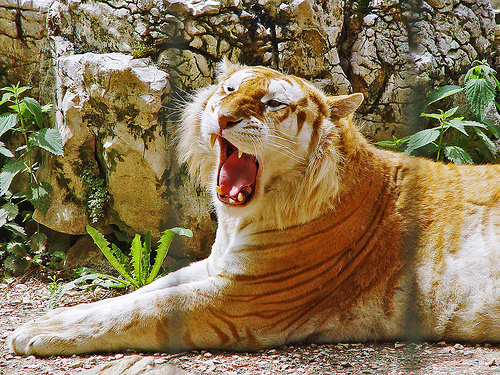Tigre: (156, 59, 500, 353)
